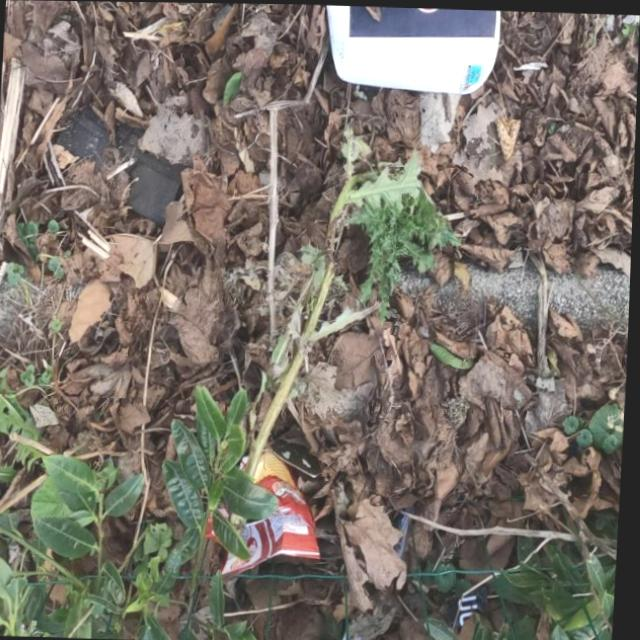Cup: (319, 4, 503, 99)
Plastic: (204, 445, 330, 582)
